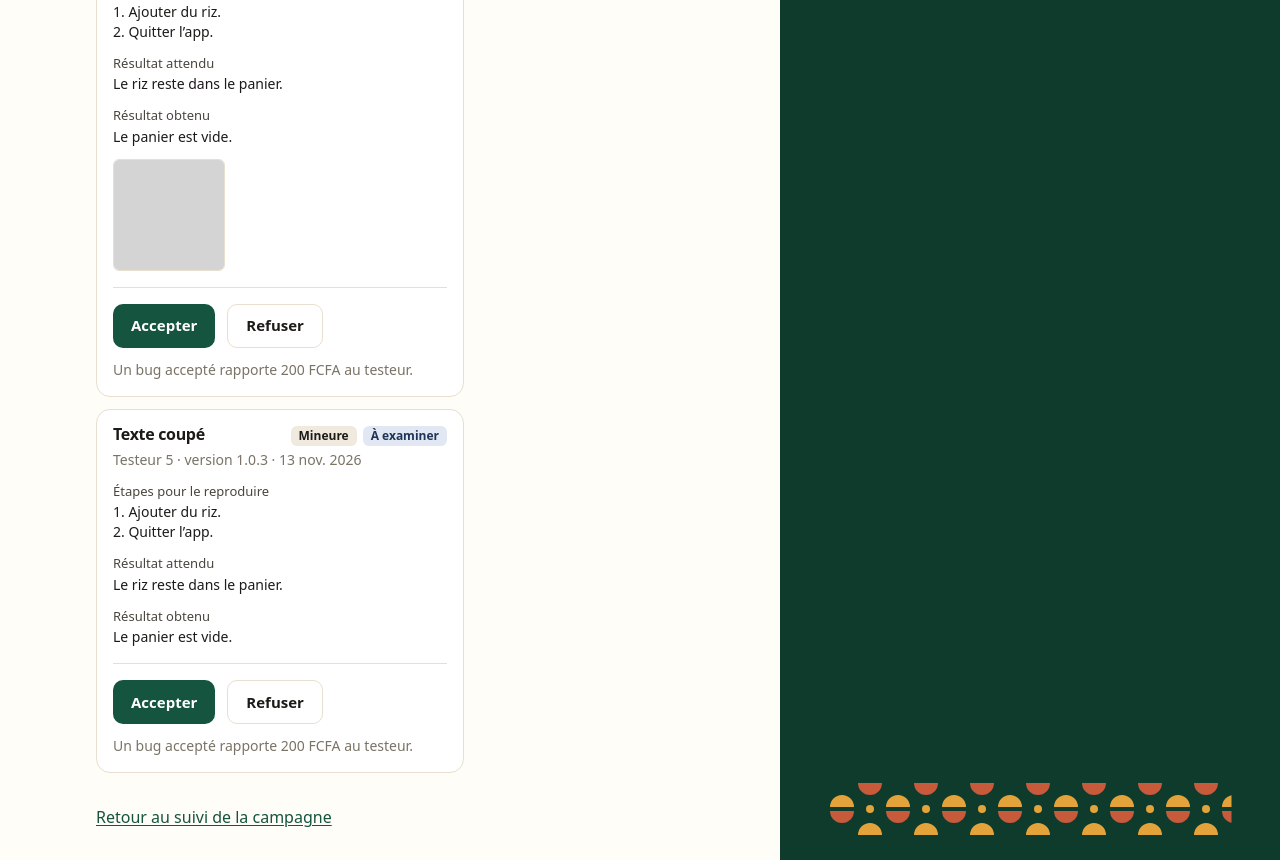
Bugs signalés (US-34) › refuser demande un motif, puis l’envoie
(page scrolled)
Click the button with aria-label "Refuser le bug « Texte coupé »": (275, 702) [227,680,323,724]
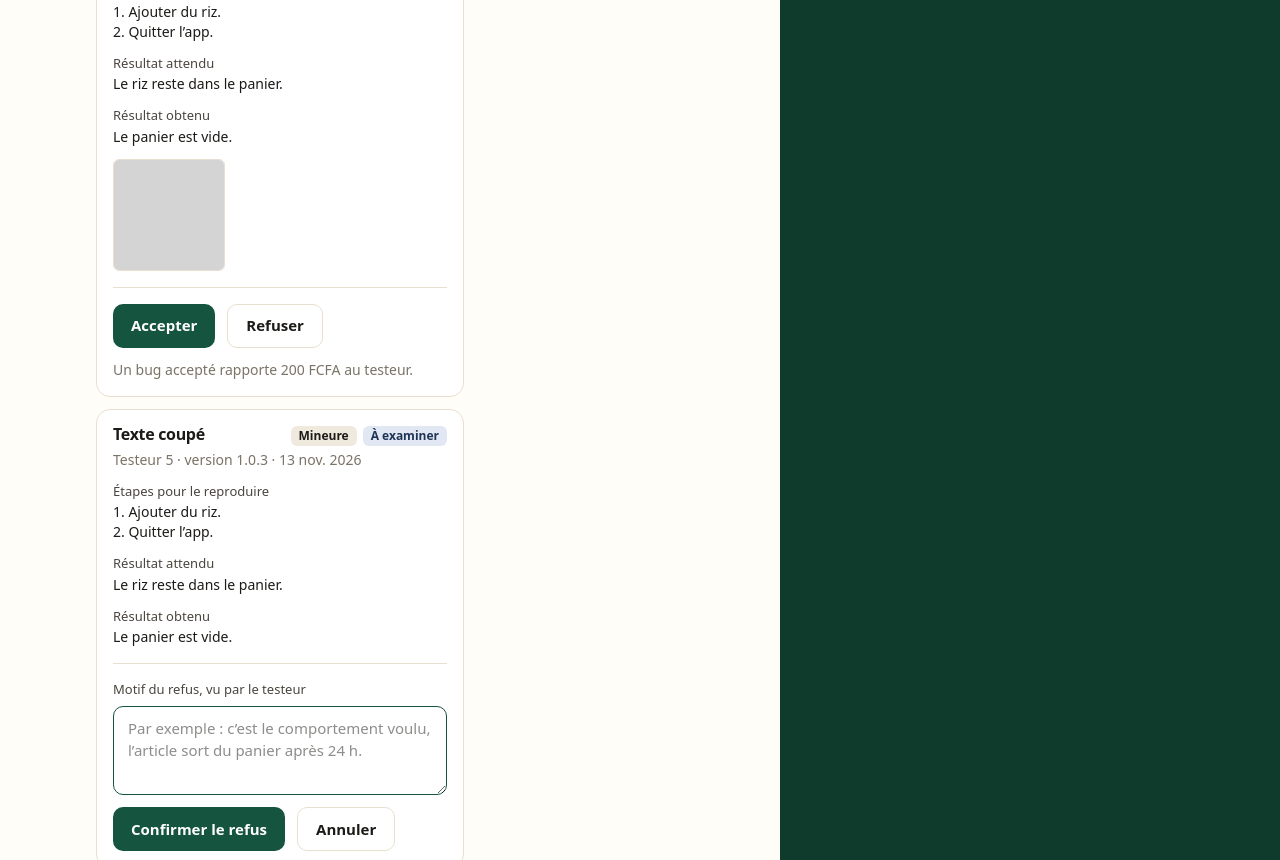
Click the button "Confirmer le refus": (199, 829) [113,807,285,851]
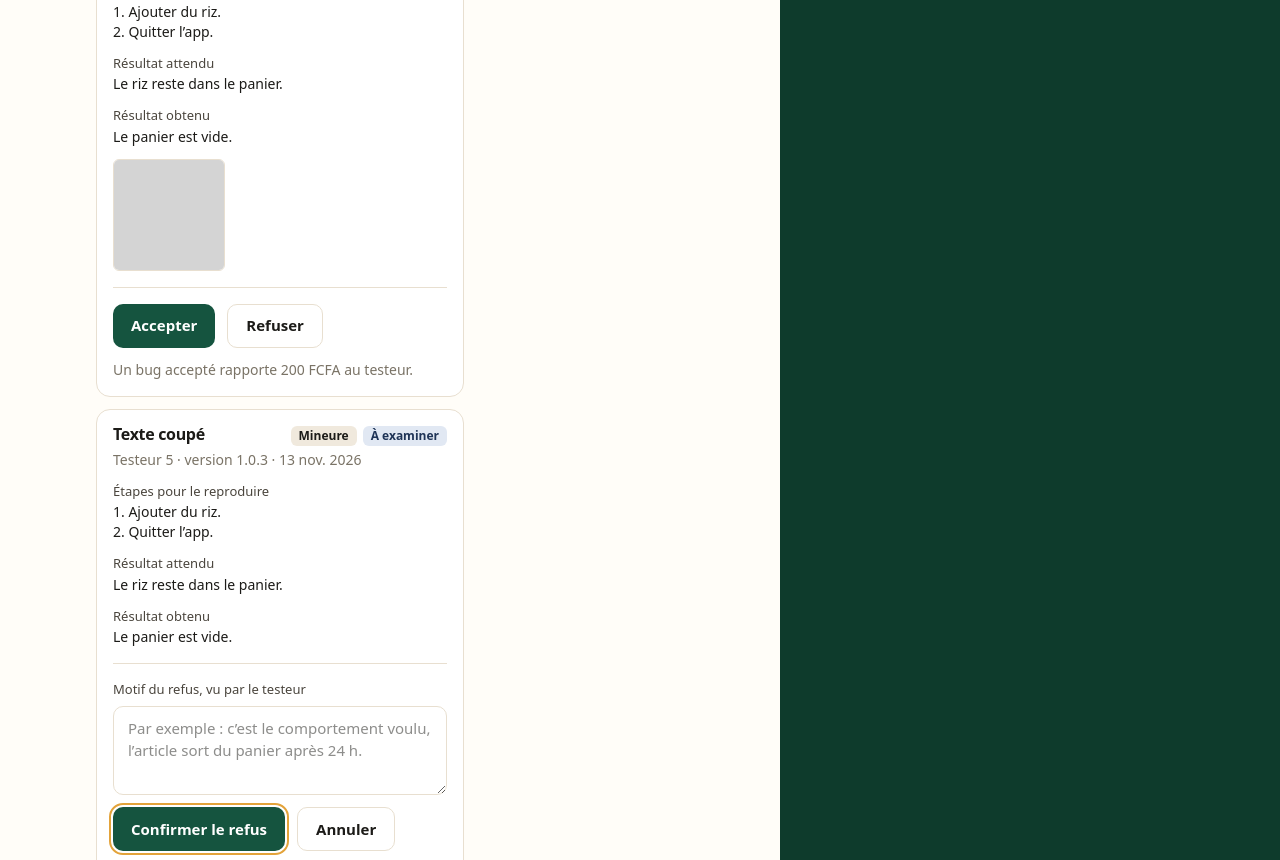
In the text box labelled "Motif du refus, vu par le testeur": (280, 751) [113,706,447,795], type "Comportement voulu."
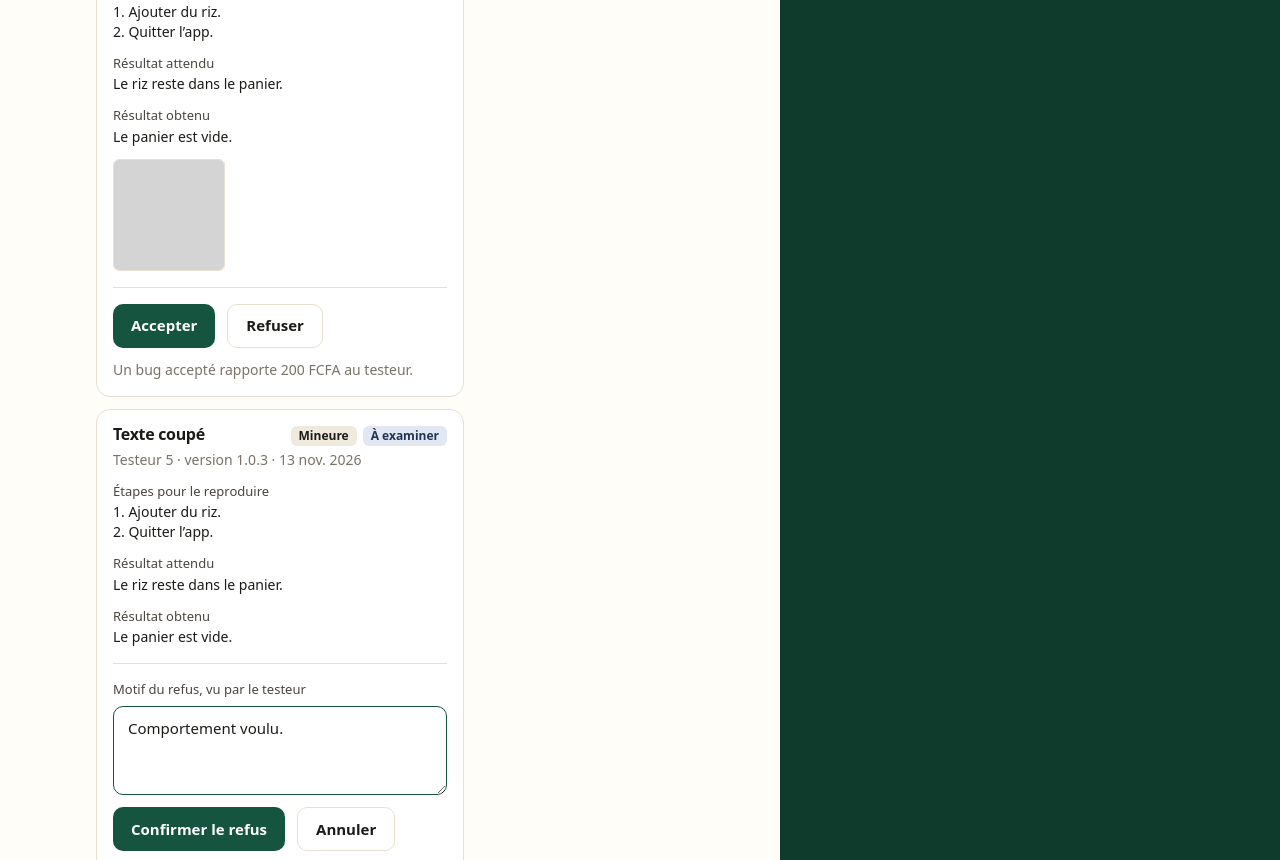
Click the button "Confirmer le refus": (199, 829) [113,807,285,851]
(page scrolled)
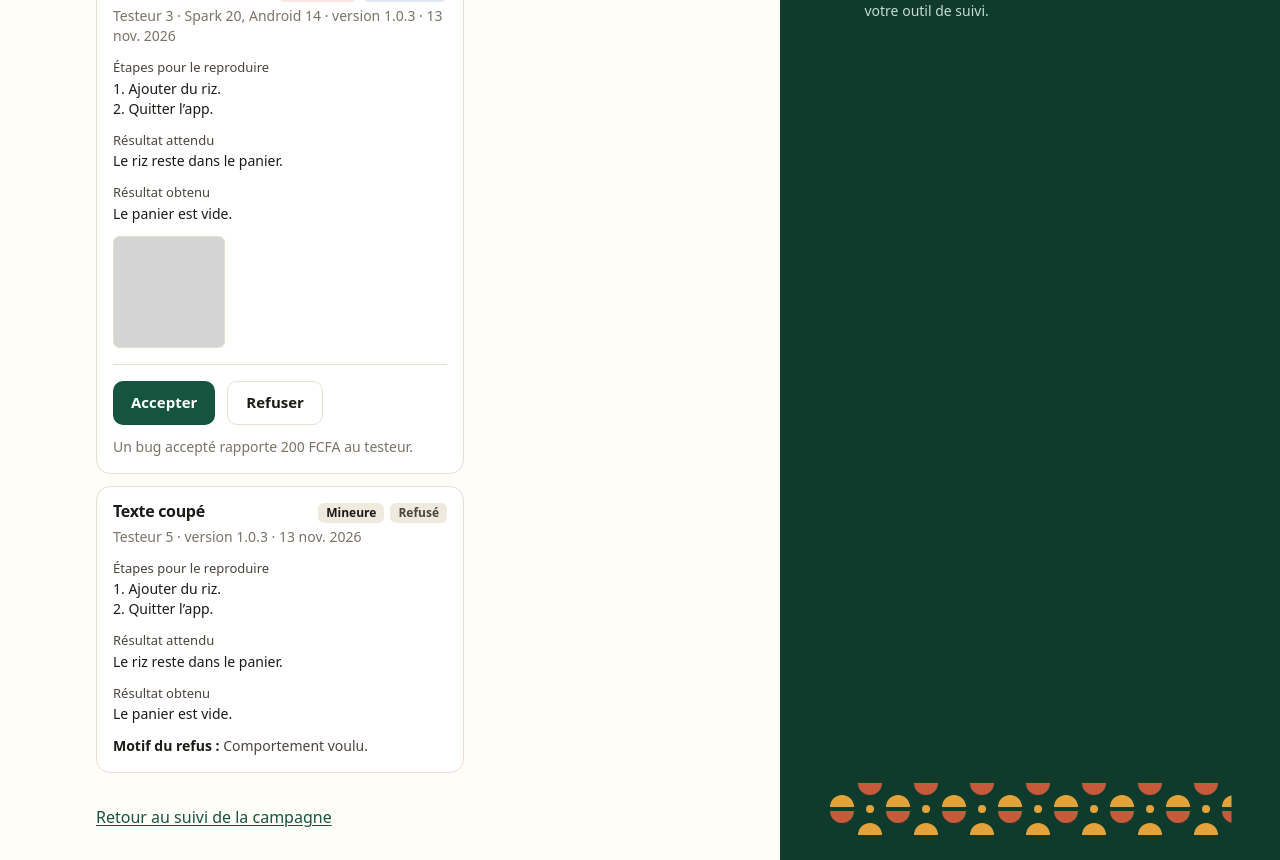
Now the text "Comportement voulu." is shown, box [223,736,368,755]
